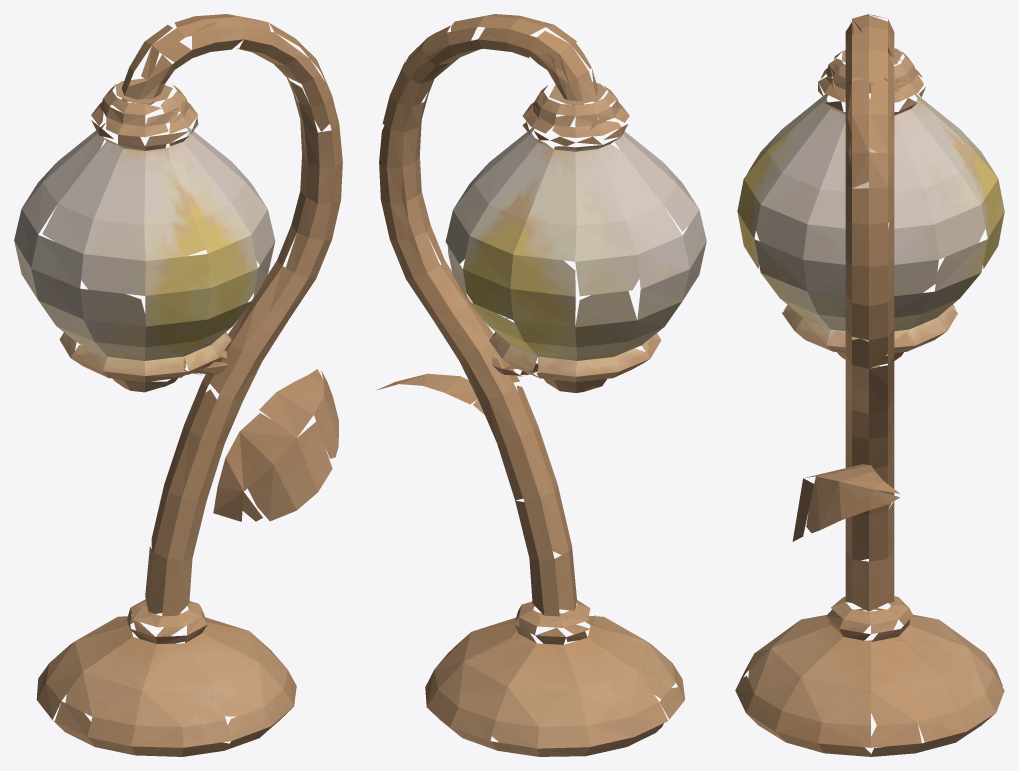
Rendered from g_f_lamp.glb.
3 renders of one model, left to right at view 1: azimuth 30°, elevation 25°; view 2: azimuth 150°, elevation 25°; view 3: azimuth 270°, elevation 25°, orthographic. The views are drawn at different scales.
Parts seen in each view (by area): view 1: geometry_0; view 2: geometry_0; view 3: geometry_0.
Boxes of the visible parts, x1,y1,x2,y2 form: geometry_0: (14,14,342,756); geometry_0: (376,14,706,756); geometry_0: (735,14,1004,756).
Bounding box in the file's own units: 0.0835 × 0.1772 × 0.062.
